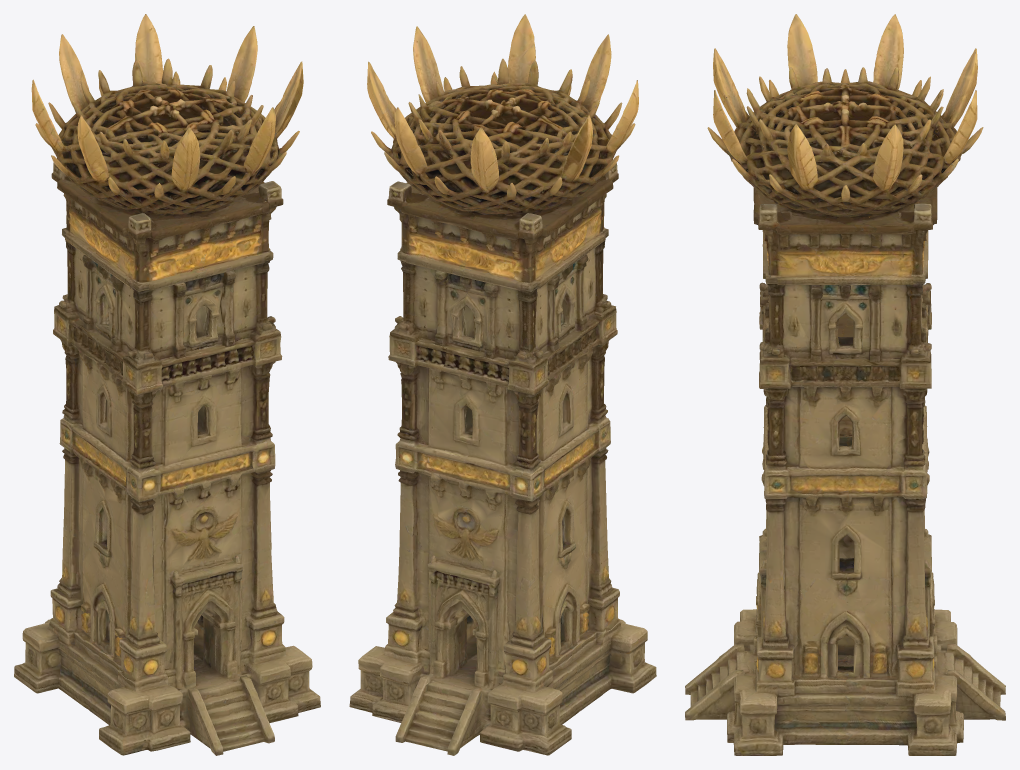
File: NestTower.glb
3 views of the same model, side by side, from view 1: azimuth 30°, elevation 25°; view 2: azimuth 150°, elevation 25°; view 3: azimuth 270°, elevation 25° (orthographic). The views are drawn at different scales.
Bounding box in the file's own units: 0.7435 × 1.9 × 0.8671.
Materials: 1 (1 with a texture image).
